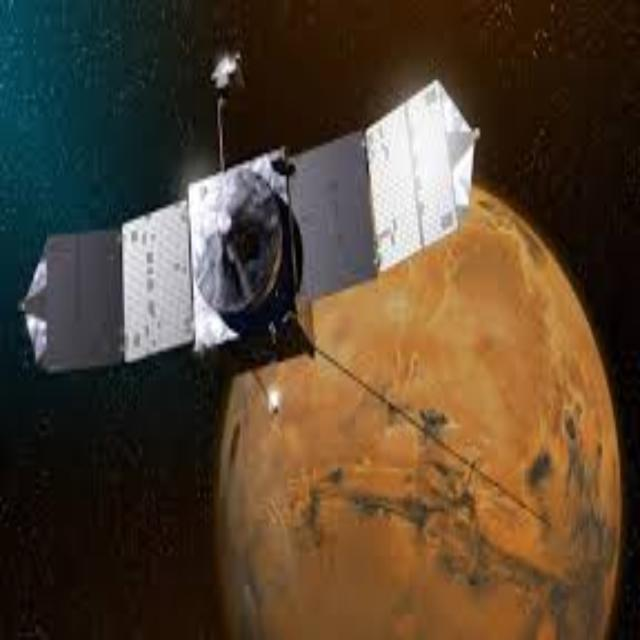satellite: (18, 40, 475, 390)
